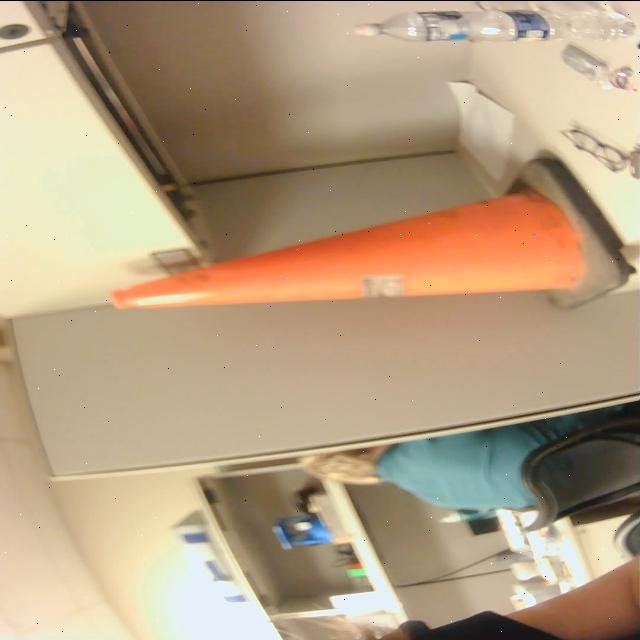traffic cone: (103, 154, 640, 314)
